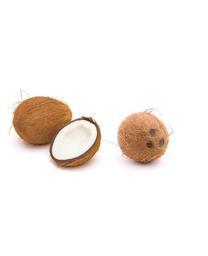coconut: (12, 97, 73, 146), (50, 117, 101, 169), (117, 112, 168, 163)
